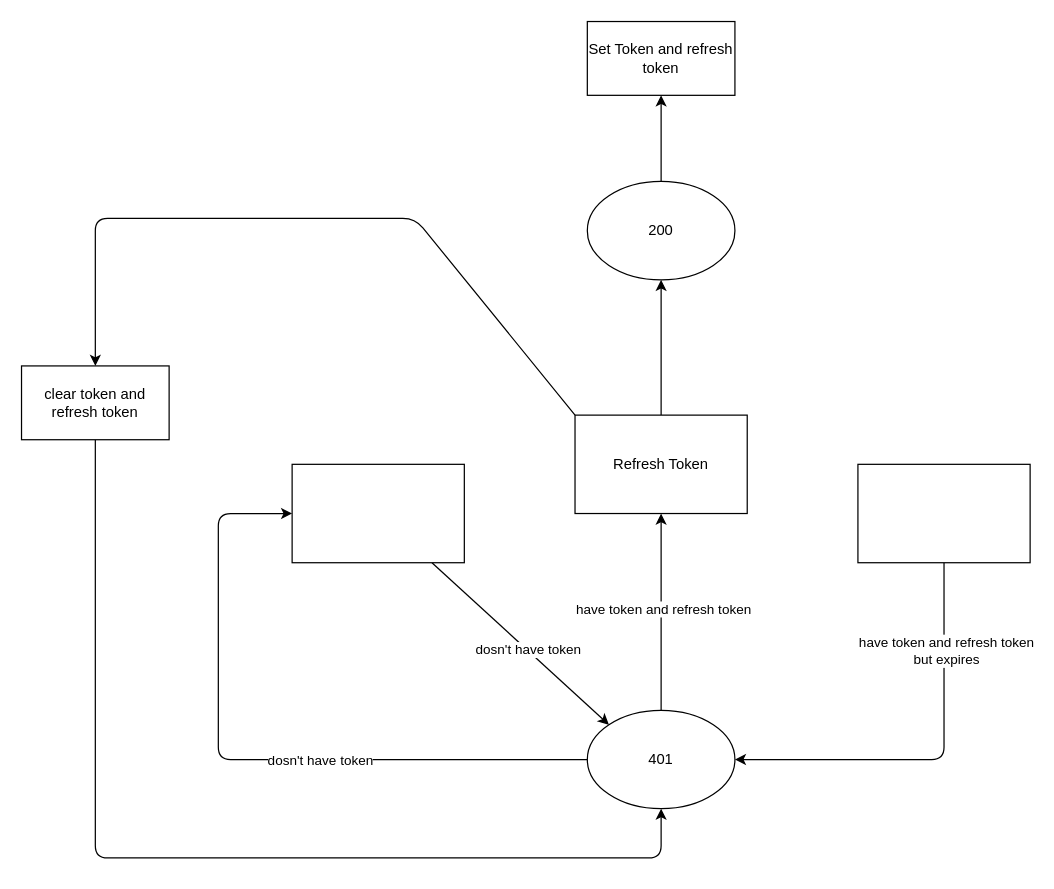
This 1054x889 diagram has some shape labels left out. The centre of each missing label's shape, as x and y in pixels:
"Get All" goes at point (943, 513).
"Login" goes at point (377, 513).
